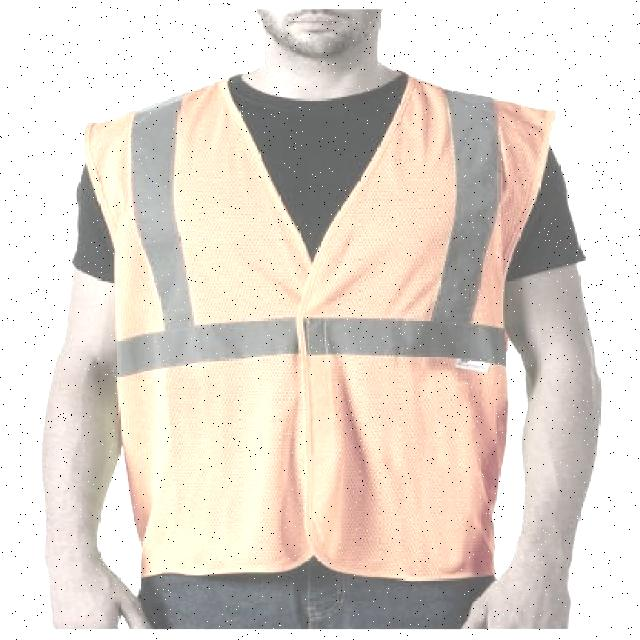Mask: (95, 76, 518, 581)
